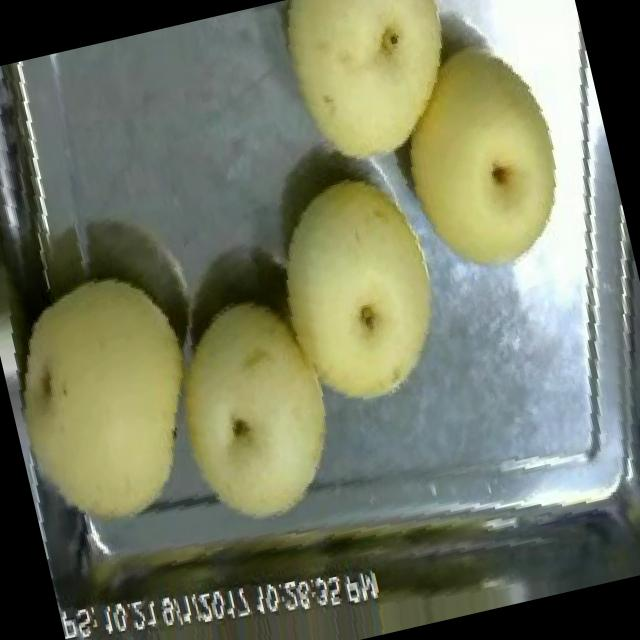Fruit: (0, 248, 238, 557), (362, 16, 601, 300), (129, 270, 365, 554), (239, 150, 474, 432), (260, 0, 487, 189)
